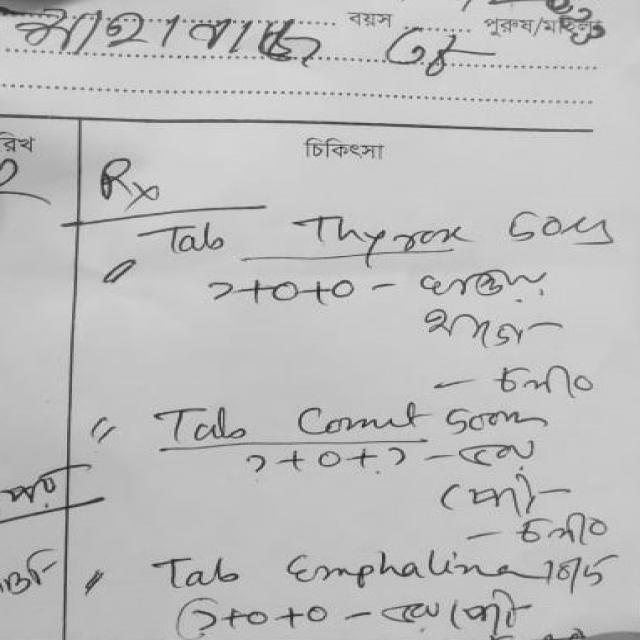medicine: (295, 208, 485, 260), (280, 548, 532, 586), (282, 394, 430, 444)
